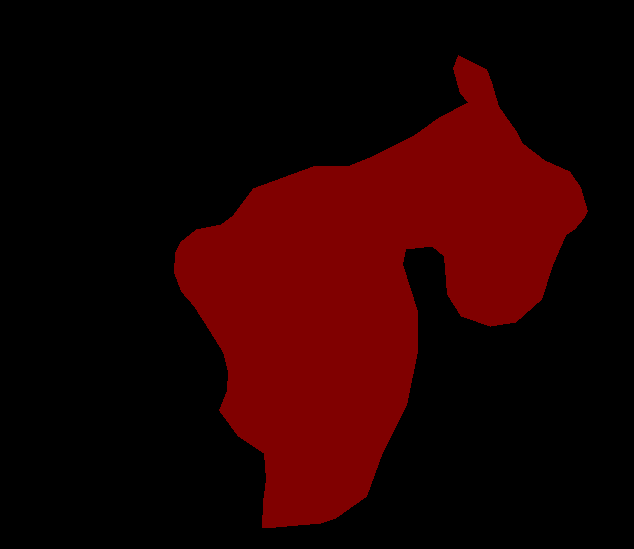fire: (174, 55, 587, 527)
